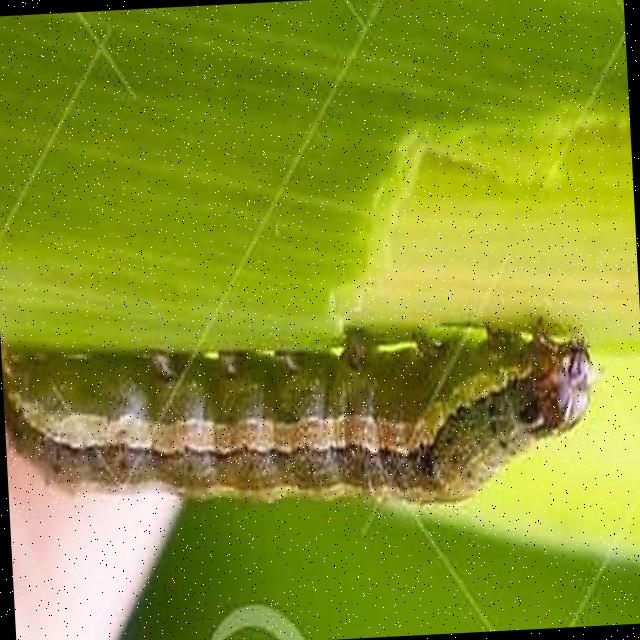worm: (3, 309, 605, 536)
